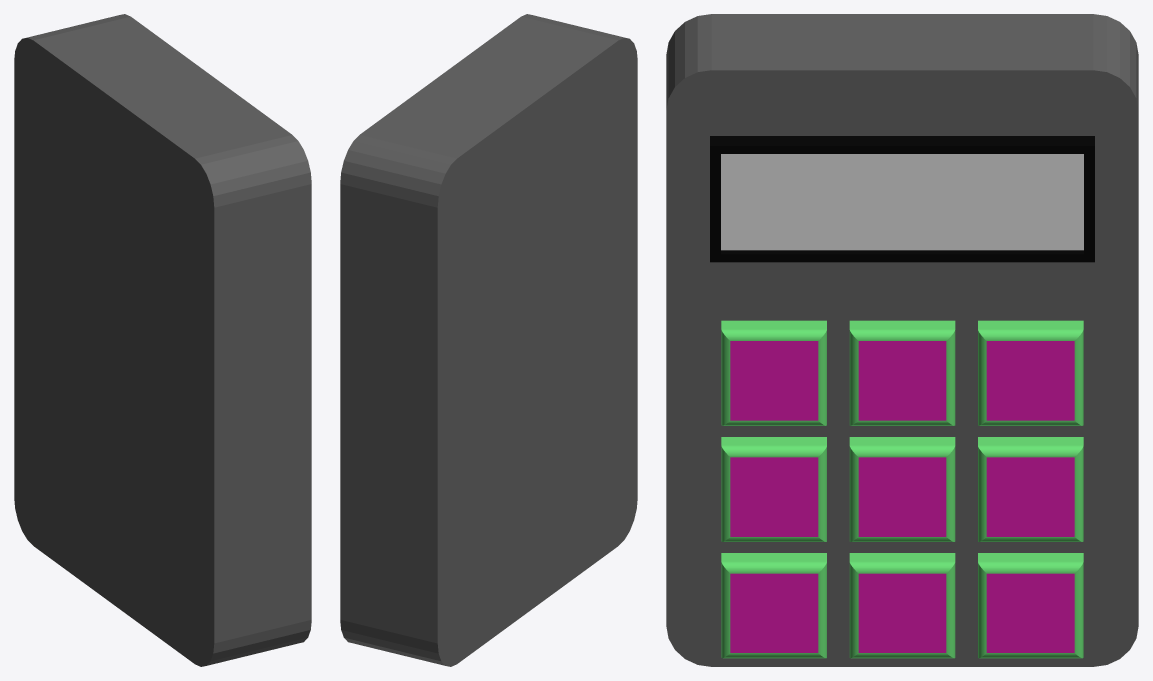
File: Keypad.fbx
The picture shows the model from 3 angles, left to right: view 1: azimuth 30°, elevation 25°; view 2: azimuth 150°, elevation 25°; view 3: azimuth 270°, elevation 25°; orthographic projection. The views are drawn at different scales.
Visible parts, largest first — view 1: Key Pad Body; view 2: Key Pad Body; view 3: Key Pad Body, Display, Button 1, Button 8, Button 2, Button 3, Button 5, Button 9, Button 7, Button 6, Button 4.
Part boxes in pixels (<box>): Key Pad Body: <box>14,14,311,666</box>; Key Pad Body: <box>340,14,637,666</box>; Key Pad Body: <box>666,14,1138,666</box>; Display: <box>710,136,1094,262</box>; Button 1: <box>849,320,955,425</box>; Button 8: <box>849,553,955,658</box>; Button 2: <box>721,320,826,425</box>; Button 3: <box>978,320,1083,425</box>; Button 5: <box>849,437,955,541</box>; Button 9: <box>978,553,1083,658</box>; Button 7: <box>721,553,826,658</box>; Button 6: <box>978,437,1083,541</box>; Button 4: <box>721,437,826,541</box>.
Size of the model in its own units: 37.91 by 154 by 111.
